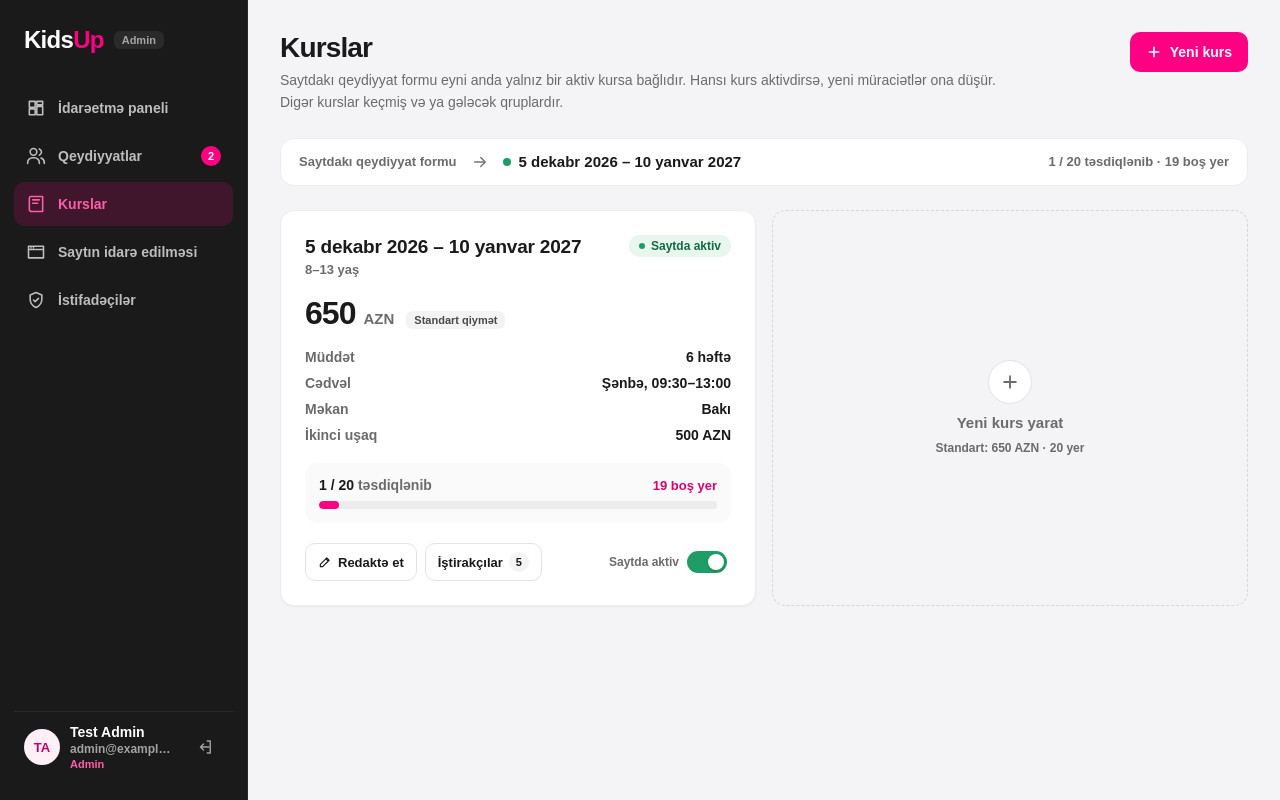
Scenario: tying the form to a course › closes registration when the active course is switched off
This screenshot has width=1280, height=800.
Check: the navigation bar named "Admin menyu" is shown, box x1=14 y1=86 x2=233 y2=322
Check: the heading "Kurslar" is shown, box x1=280 y1=32 x2=372 y2=63
Click the switch. click: (666, 562)
box: x1=601 y1=543 x2=731 y2=581
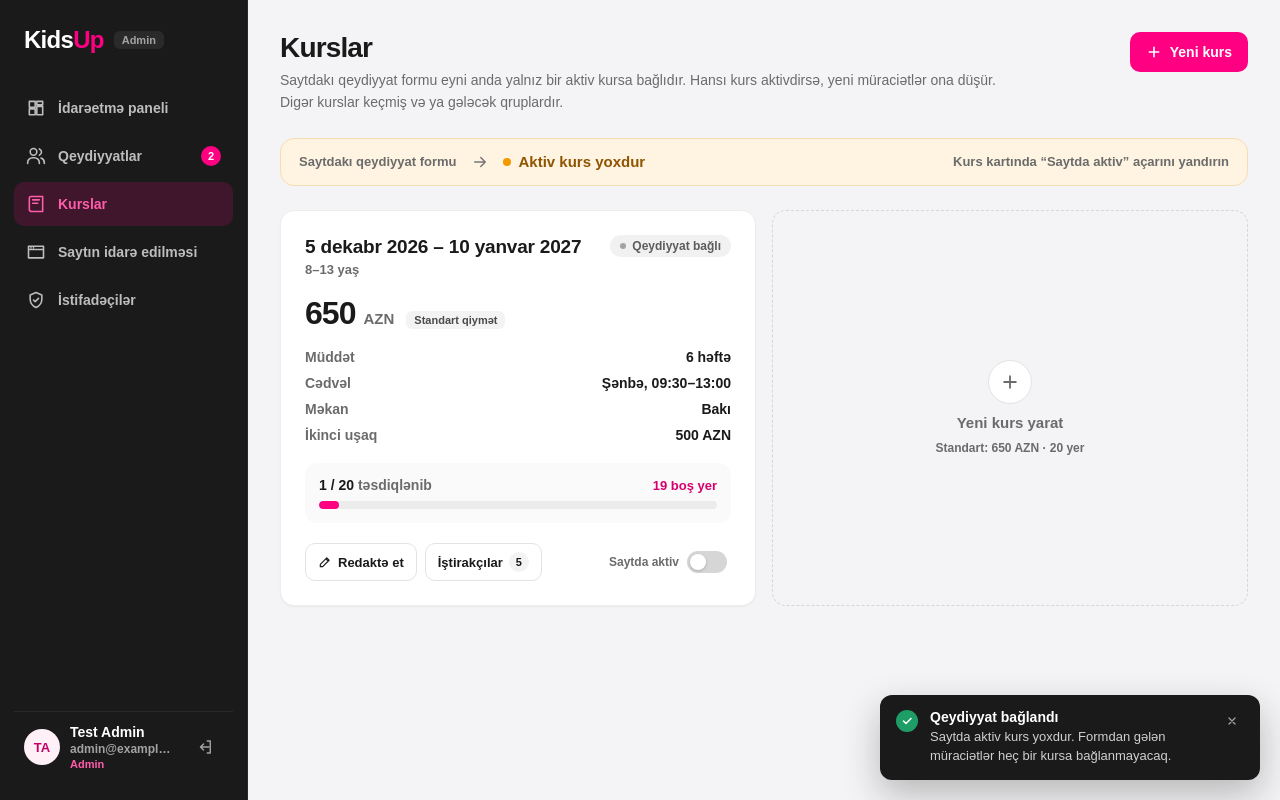
Check: the text "Qeydiyyat bağlandı" is shown, box x1=930 y1=709 x2=1058 y2=725
Check: the text "Aktiv kurs yoxdur" is shown, box x1=502 y1=153 x2=645 y2=170
